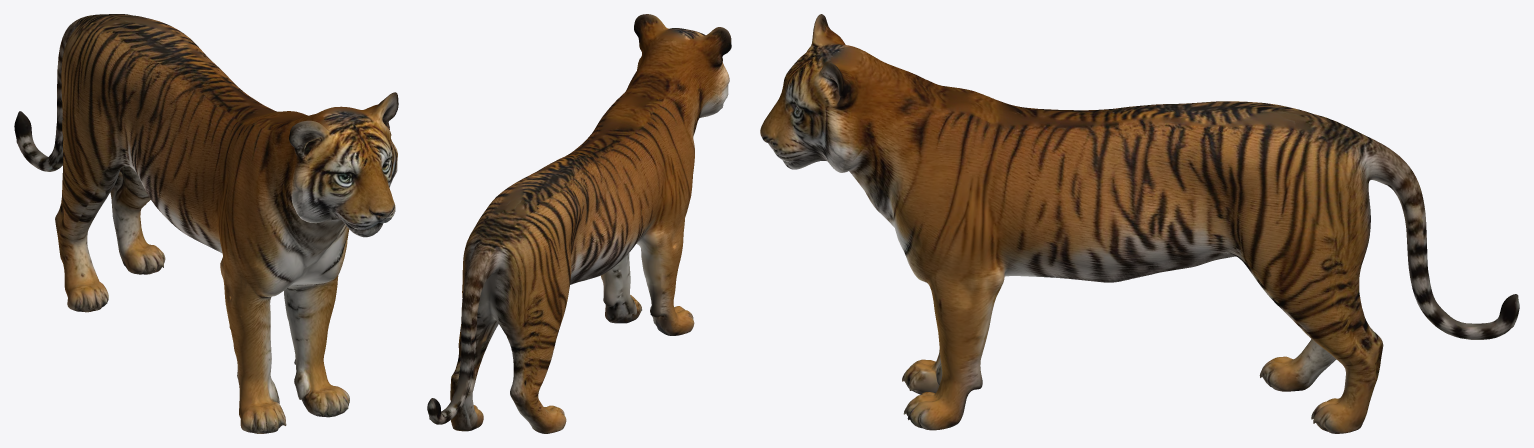
File: tiger--bali.glb
3 views of the same model, side by side, from view 1: azimuth 30°, elevation 25°; view 2: azimuth 150°, elevation 25°; view 3: azimuth 270°, elevation 25° (orthographic). The views are drawn at different scales.
Parts seen in each view (by area): view 1: node_0; view 2: node_0; view 3: node_0.
Part boxes in pixels (x1,y1,x2,y2): node_0: (14, 14, 398, 433); node_0: (427, 14, 731, 433); node_0: (760, 14, 1519, 433).
Bounding box in the file's own units: 0.2234 × 0.6164 × 1.15.
1 material, 1 textured.
